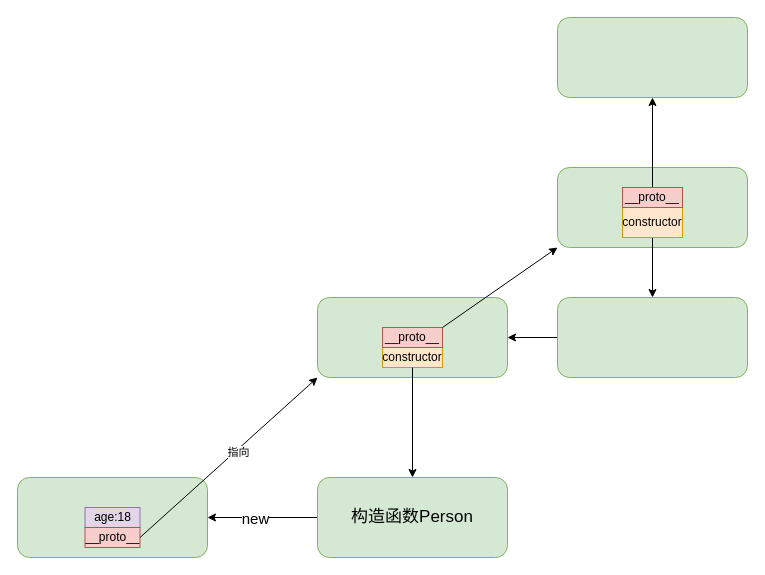
The diagram is 765 pixels wide and 575 high, and some of its shapes have lost their labels. Here are the shapes that lost their labels. From the top down, the box of each, then its label:
(556, 16, 748, 98): null
(316, 296, 508, 378): 构造函数原型对象
(556, 296, 748, 378): 构造函数Object
(16, 476, 208, 558): 实例对象P
